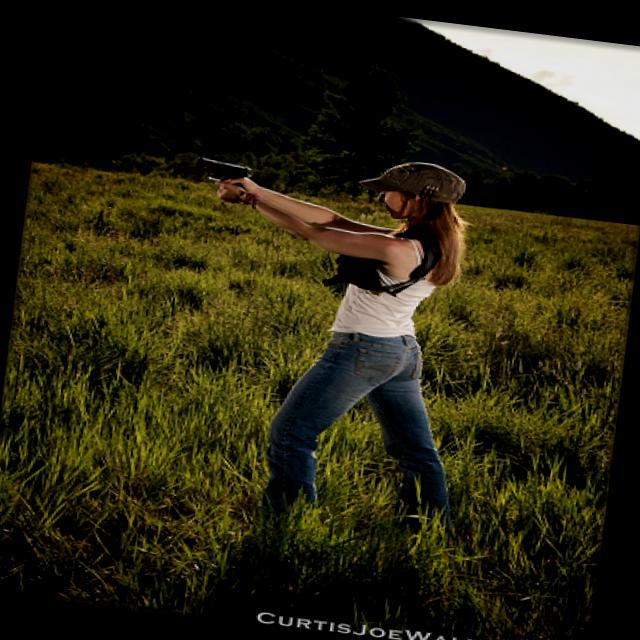handgun: (193, 150, 254, 202)
